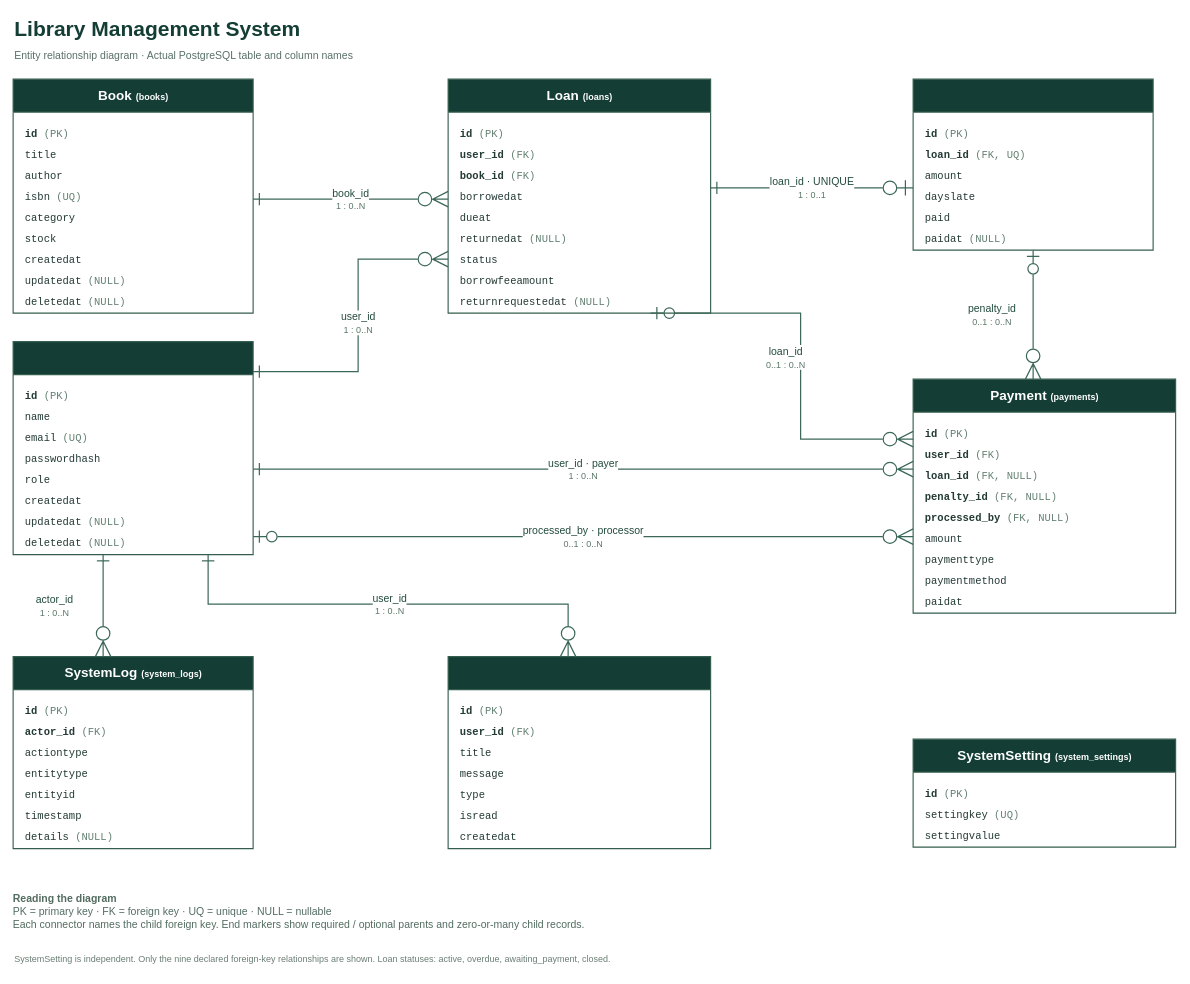
The diagram is 1190 pixels wide and 984 high, and some of its shapes have lost their labels. Each missing label, with the box of its shape:
Notification (notifications): (447, 656, 711, 849)
Penalty (penalties): (912, 78, 1153, 250)
User (users): (12, 341, 253, 555)
